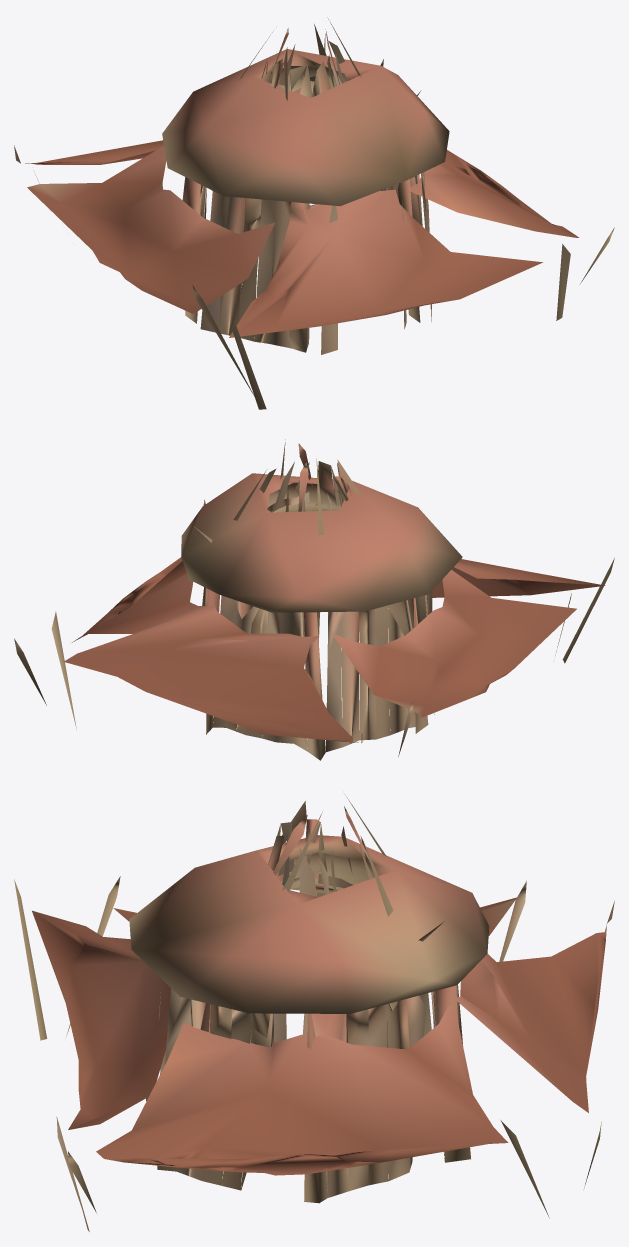
Rendered from casa_paja_a_lejos.glb.
The picture shows the model from 3 angles, top to bottom: view 1: azimuth 30°, elevation 25°; view 2: azimuth 150°, elevation 25°; view 3: azimuth 270°, elevation 25°; orthographic projection. The views are drawn at different scales.
Parts seen in each view (by area): view 1: casa_paja_a_lejos; view 2: casa_paja_a_lejos; view 3: casa_paja_a_lejos.
Part boxes in pixels (bbox=[...]): casa_paja_a_lejos: bbox=[14, 17, 614, 409]; casa_paja_a_lejos: bbox=[14, 439, 614, 760]; casa_paja_a_lejos: bbox=[14, 795, 614, 1231].
Size of the model in its own units: 8.24 by 5.25 by 8.45.
